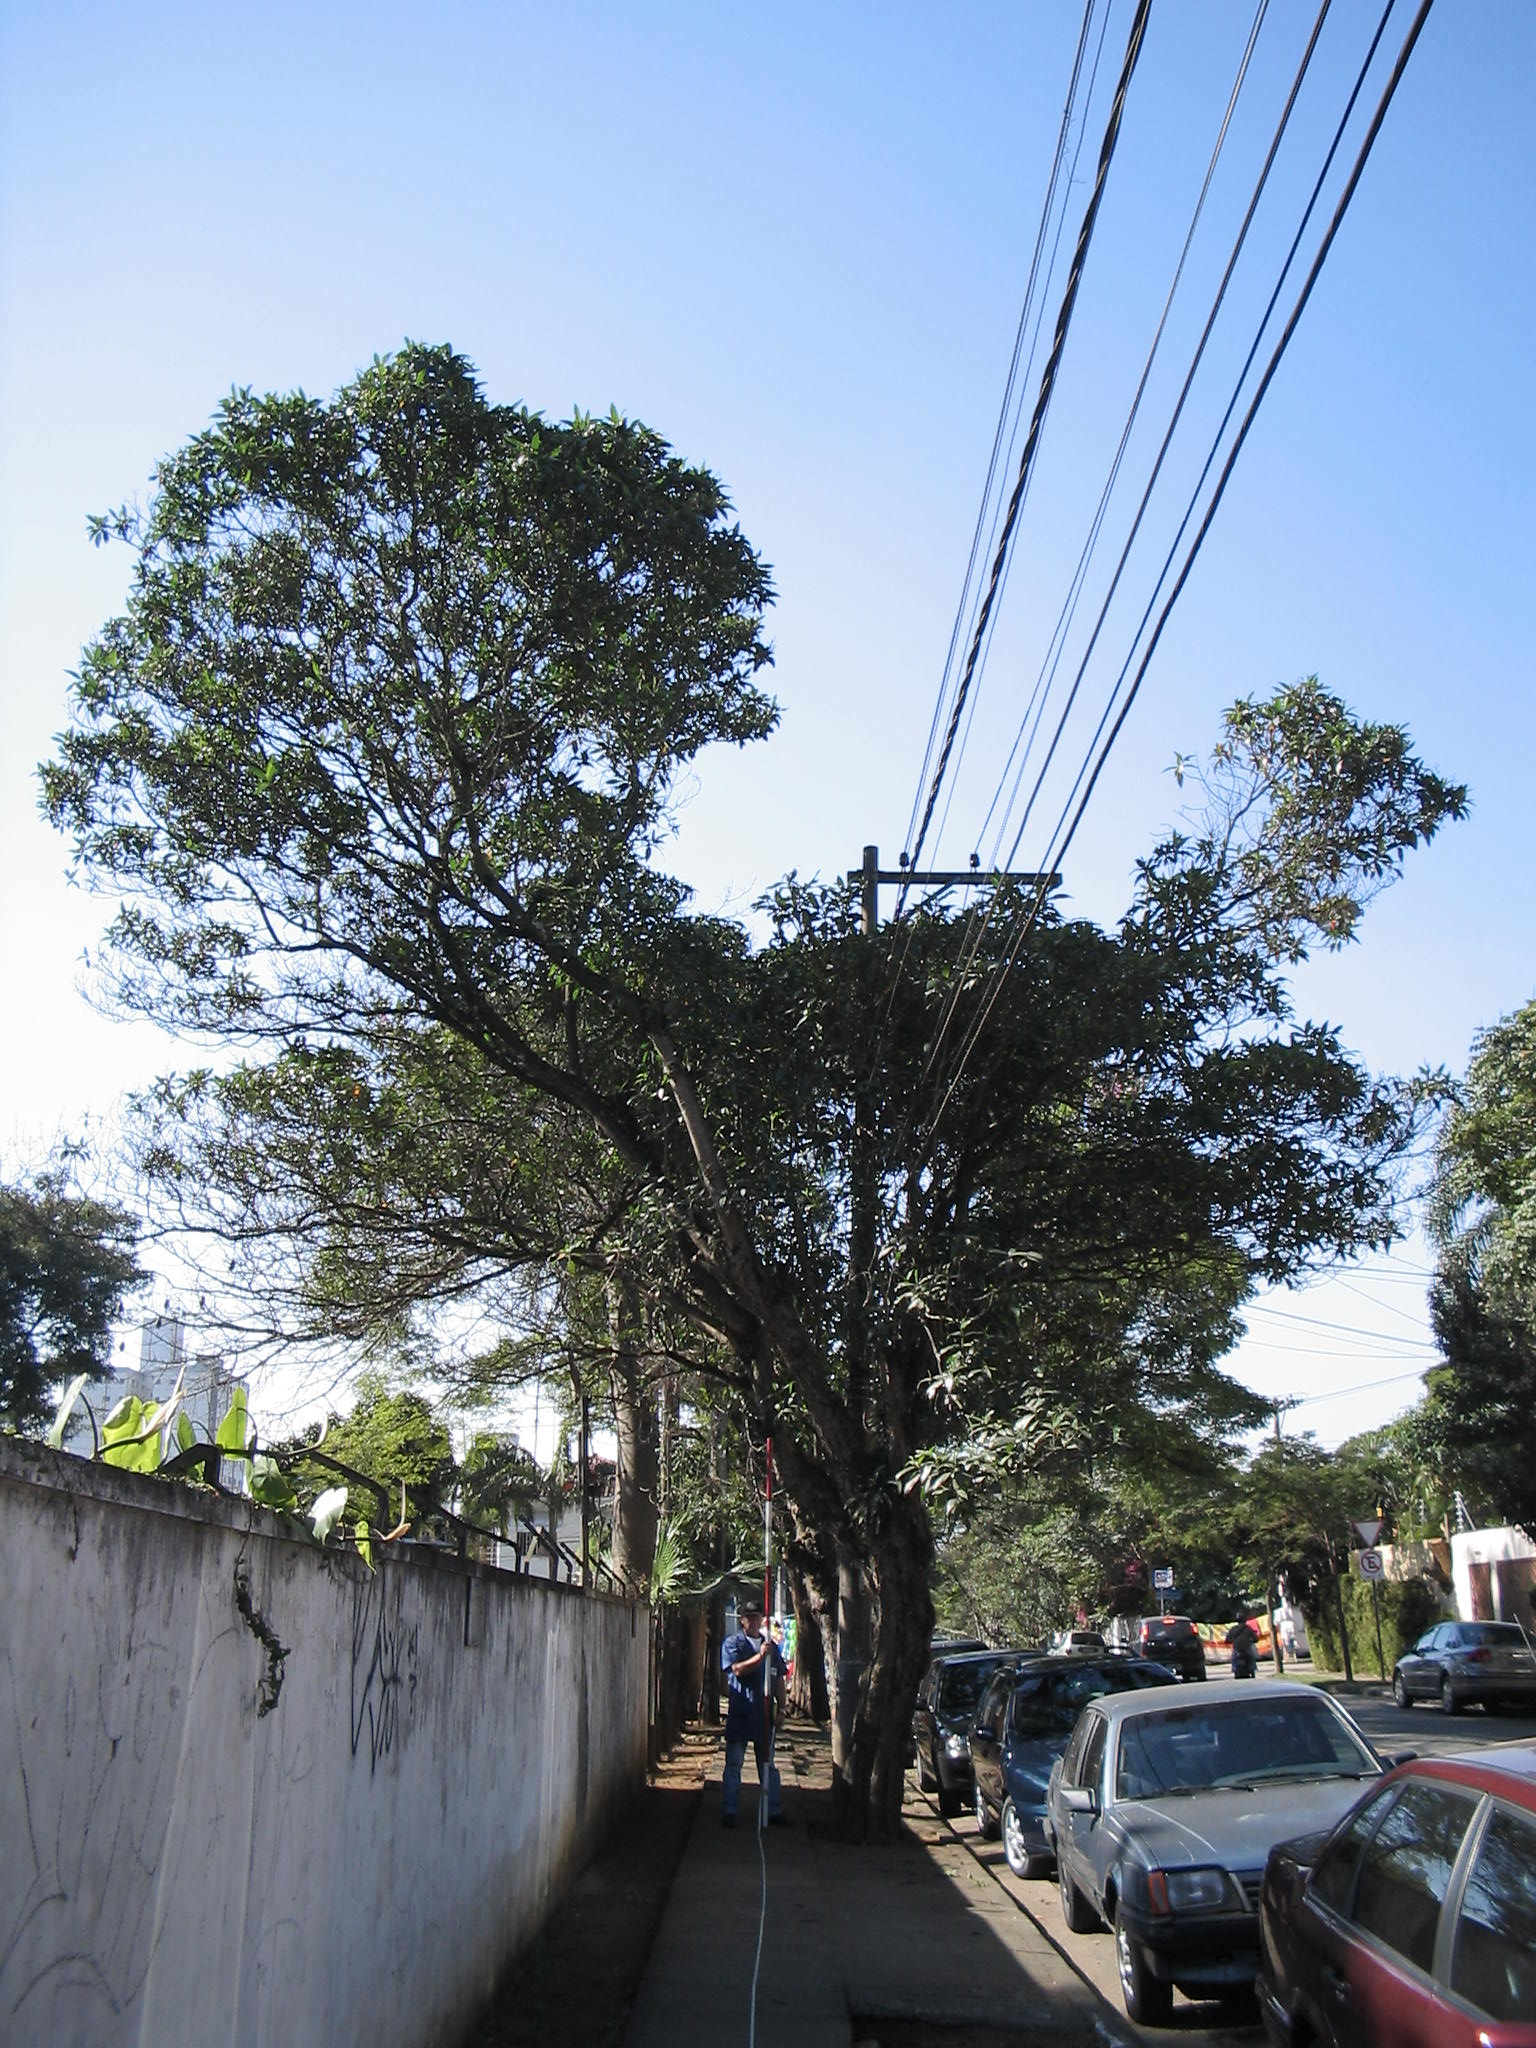crown: (40, 343, 1463, 1464)
stem: (824, 1511, 945, 1832)
stick: (745, 1438, 786, 1835)
tree: (34, 339, 1471, 1838)
